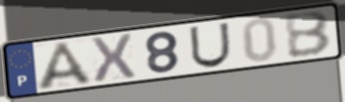0: (239, 16, 280, 65)
8: (143, 30, 182, 75)
A: (35, 39, 97, 92)
B: (281, 9, 333, 60)
U: (187, 21, 233, 70)
X: (88, 32, 139, 85)
